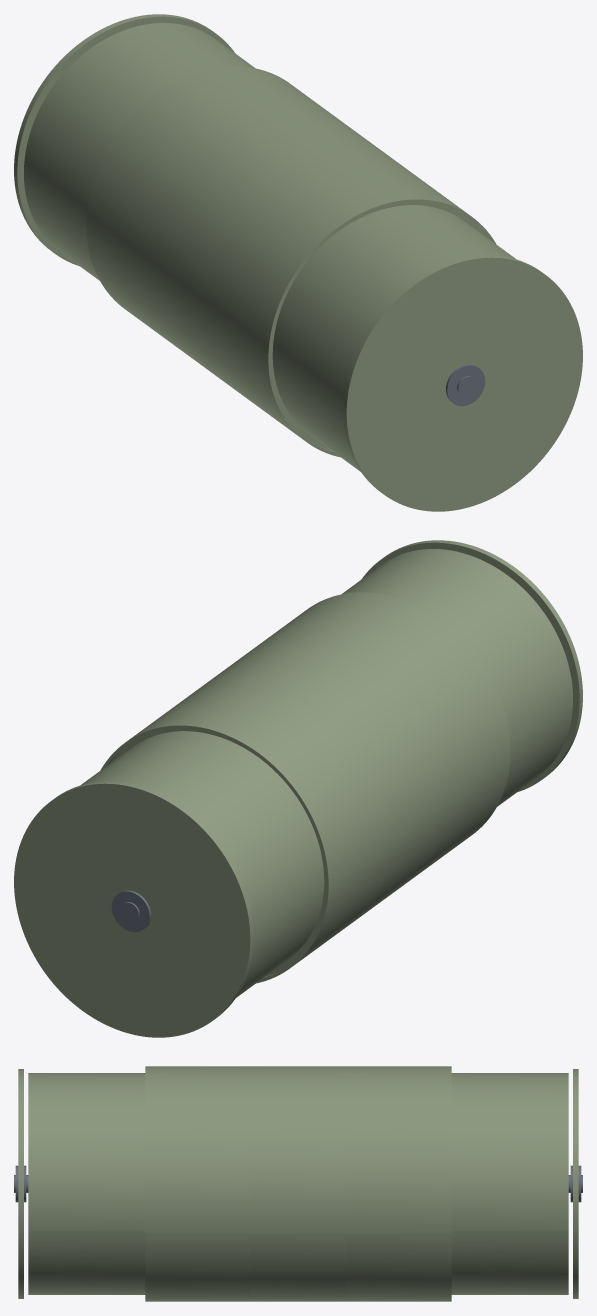
File: tube-r150-n8-wound-g0p5-6br.glb
The picture shows the model from 3 angles, top to bottom: view 1: azimuth 30°, elevation 25°; view 2: azimuth 150°, elevation 25°; view 3: azimuth 270°, elevation 25°; orthographic projection. The views are drawn at different scales.
Visible parts, largest first — view 1: bearings / B_spider_end - frame bearing hub [G10 bearing spi, side-B / B_stator_cage - insulating stator cage [G10 stator , rel-B / B_bridge_ring - bridge ring (counter-rotor), bridges, side-A / A_stator_cage - insulating stator cage [G10 stator , rel-A / A_bridge_ring - bridge ring (counter-rotor), bridges, hub / hub_stator_cage - cage across the hub: A and B stator , bearings / A_spider_end - frame bearing hub [G10 bearing spi, bearings / B_spider_Ca-reluctance - bearing hub, tied into t, bearings / B_bearing_end - bearing, end [6205-class deep-gro; view 2: bearings / A_spider_end - frame bearing hub [G10 bearing spi, side-A / A_stator_cage - insulating stator cage [G10 stator , rel-A / A_bridge_ring - bridge ring (counter-rotor), bridges, side-B / B_stator_cage - insulating stator cage [G10 stator , rel-B / B_bridge_ring - bridge ring (counter-rotor), bridges, hub / hub_stator_cage - cage across the hub: A and B stator , bearings / B_spider_end - frame bearing hub [G10 bearing spi, bearings / A_spider_Ca-reluctance - bearing hub, tied into t, bearings / A_bearing_end - bearing, end [6205-class deep-gro; view 3: rel-A / A_bridge_ring - bridge ring (counter-rotor), bridges, rel-B / B_bridge_ring - bridge ring (counter-rotor), bridges, side-A / A_stator_cage - insulating stator cage [G10 stator , side-B / B_stator_cage - insulating stator cage [G10 stator , hub / hub_stator_cage - cage across the hub: A and B stator , bearings / A_spider_end - frame bearing hub [G10 bearing spi, bearings / B_spider_end - frame bearing hub [G10 bearing spi.
Part boxes in pixels (x1,y1,x2,y2): bearings / B_spider_end - frame bearing hub [G10 bearing spi: (343, 255, 582, 511); side-B / B_stator_cage - insulating stator cage [G10 stator : (206, 154, 496, 457); rel-B / B_bridge_ring - bridge ring (counter-rotor), bridges: (272, 205, 515, 471); side-A / A_stator_cage - insulating stator cage [G10 stator : (86, 66, 348, 351); rel-A / A_bridge_ring - bridge ring (counter-rotor), bridges: (24, 23, 254, 280); hub / hub_stator_cage - cage across the hub: A and B stator : (148, 112, 405, 392); bearings / A_spider_end - frame bearing hub [G10 bearing spi: (14, 14, 235, 265); bearings / B_spider_Ca-reluctance - bearing hub, tied into t: (271, 202, 486, 449); bearings / B_bearing_end - bearing, end [6205-class deep-gro: (446, 364, 485, 406); bearings / A_spider_end - frame bearing hub [G10 bearing spi: (14, 781, 253, 1037); side-A / A_stator_cage - insulating stator cage [G10 stator : (100, 680, 390, 983); rel-A / A_bridge_ring - bridge ring (counter-rotor), bridges: (81, 731, 324, 997); side-B / B_stator_cage - insulating stator cage [G10 stator : (248, 592, 510, 877); rel-B / B_bridge_ring - bridge ring (counter-rotor), bridges: (342, 549, 572, 806); hub / hub_stator_cage - cage across the hub: A and B stator : (191, 638, 448, 918); bearings / B_spider_end - frame bearing hub [G10 bearing spi: (361, 540, 582, 791); bearings / A_spider_Ca-reluctance - bearing hub, tied into t: (110, 728, 325, 975); bearings / A_bearing_end - bearing, end [6205-class deep-gro: (111, 890, 150, 932); rel-A / A_bridge_ring - bridge ring (counter-rotor), bridges: (451, 1073, 568, 1294); rel-B / B_bridge_ring - bridge ring (counter-rotor), bridges: (28, 1073, 145, 1294); side-A / A_stator_cage - insulating stator cage [G10 stator : (346, 1066, 451, 1301); side-B / B_stator_cage - insulating stator cage [G10 stator : (145, 1066, 250, 1301); hub / hub_stator_cage - cage across the hub: A and B stator : (250, 1066, 346, 1301); bearings / A_spider_end - frame bearing hub [G10 bearing spi: (573, 1069, 578, 1298); bearings / B_spider_end - frame bearing hub [G10 bearing spi: (18, 1069, 23, 1298).
Size of the model in its own units: 0.332 by 0.332 by 0.802.
